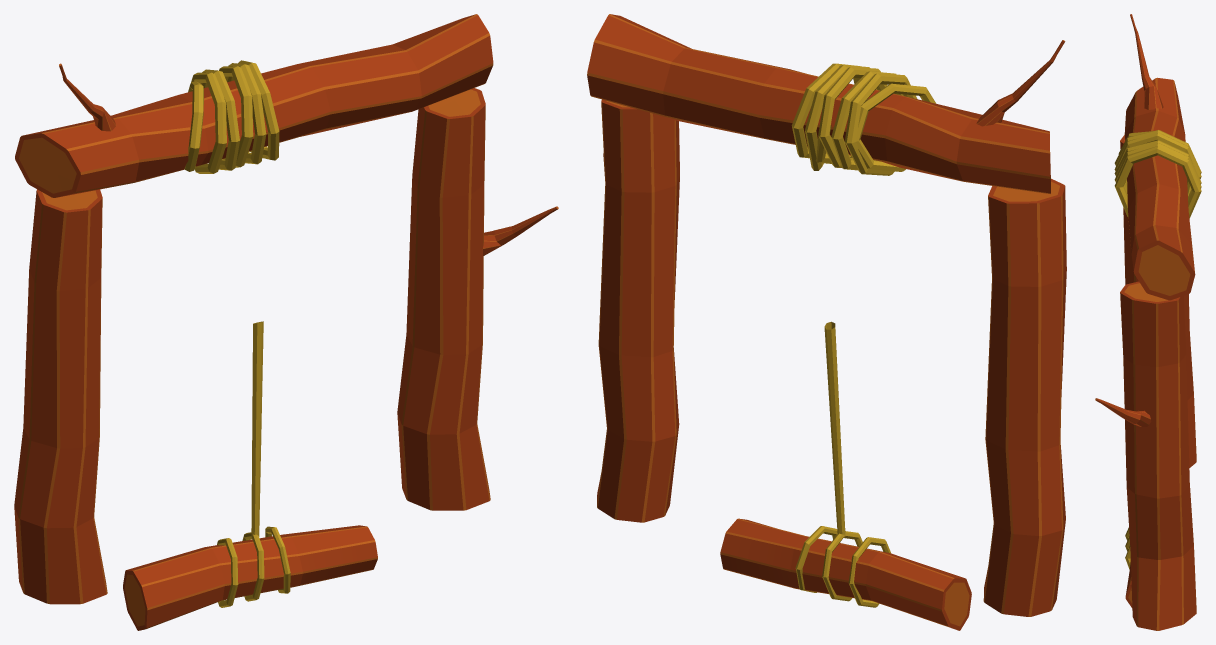
The model's file is log_trap.fbx.
The picture shows the model from 3 angles, left to right: view 1: azimuth 30°, elevation 25°; view 2: azimuth 150°, elevation 25°; view 3: azimuth 270°, elevation 25°; orthographic projection. The views are drawn at different scales.
Visible parts, largest first — view 1: log_hammer, log_hammer.001; view 2: log_hammer, log_hammer.001; view 3: log_hammer, log_hammer.001.
Boxes of the visible parts, <box> form: log_hammer: <box>14,14,558,604</box>; log_hammer.001: <box>123,321,377,630</box>; log_hammer: <box>587,14,1066,616</box>; log_hammer.001: <box>720,321,971,630</box>; log_hammer: <box>1095,14,1201,630</box>; log_hammer.001: <box>1125,527,1132,607</box>.
Size of the model in its own units: 293 by 337 by 67.13.
